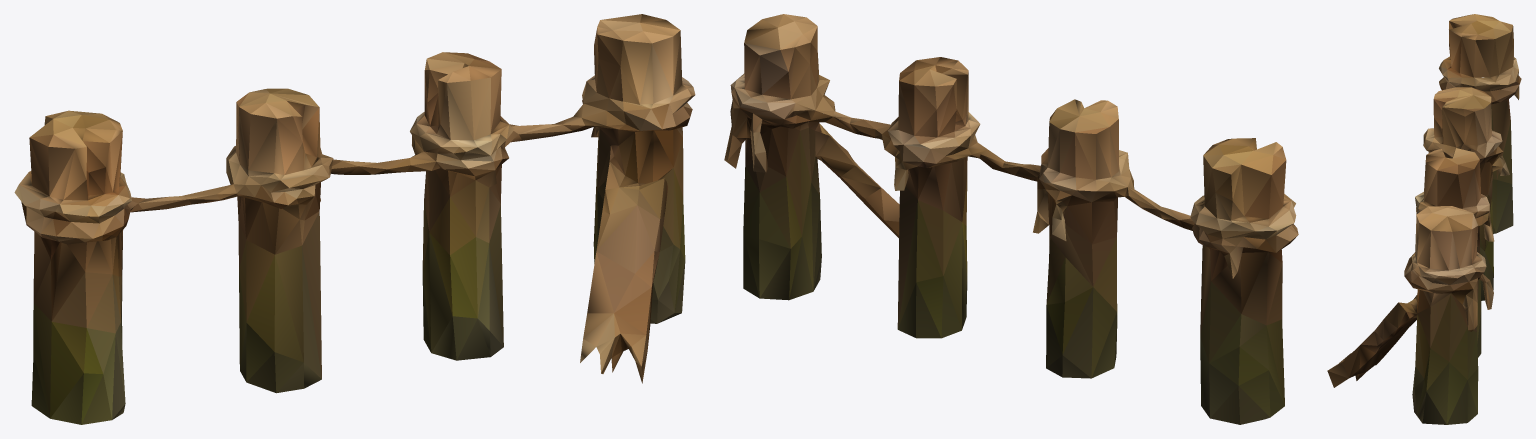
File: building-dockPilings.glb
3 renders of one model, left to right at view 1: azimuth 30°, elevation 25°; view 2: azimuth 150°, elevation 25°; view 3: azimuth 270°, elevation 25°, orthographic. The views are drawn at different scales.
Visible parts, largest first — view 1: 0_dockPilings; view 2: 0_dockPilings; view 3: 0_dockPilings.
Boxes of the visible parts, x1,y1,x2,y2 form: 0_dockPilings: (14,14,695,424); 0_dockPilings: (724,14,1298,424); 0_dockPilings: (1327,14,1521,424).
Bounding box in the file's own units: 2.5 × 1.11 × 0.9442.
